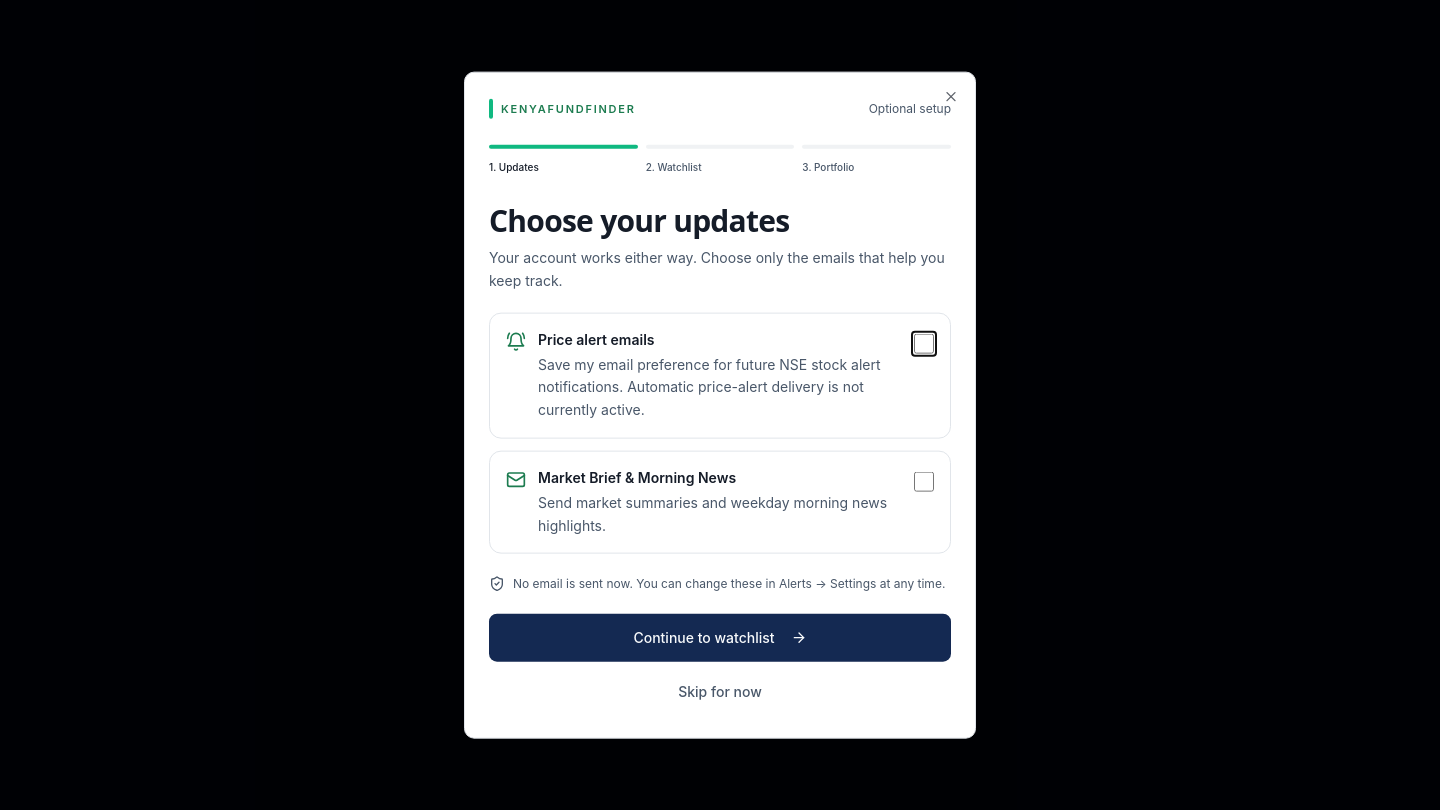
OnboardingSetup › requires an amount when a portfolio asset is selected
The width and height of the screenshot is (1440, 810).
What coordinates should you click on to do the following:
click the button "Continue to watchlist"
I would click on:
 (720, 637)
Its box is [489,613,951,661].
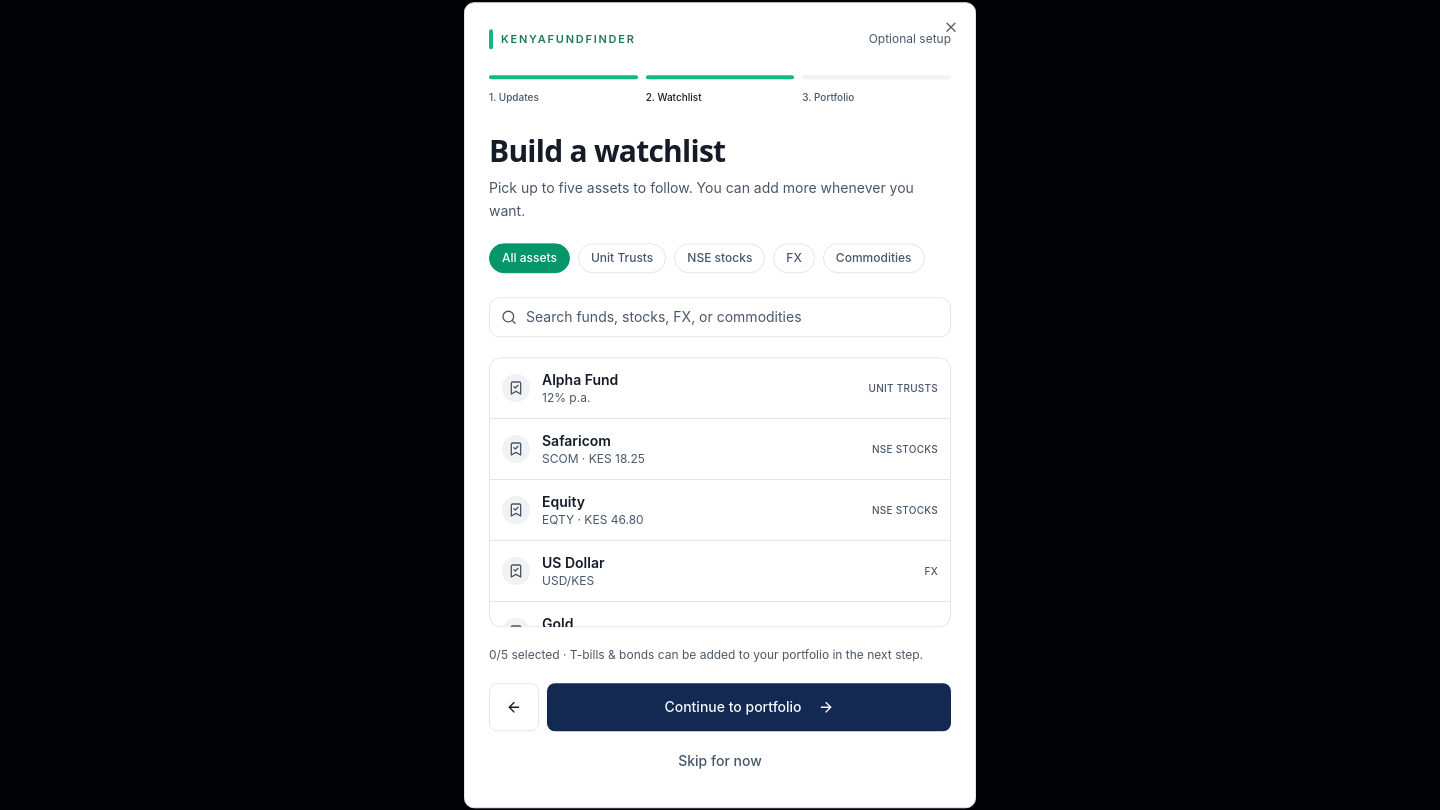
What coordinates should you click on to do the following:
click the button "Continue to portfolio"
I would click on:
 (749, 707)
Its box is [547,683,951,731].
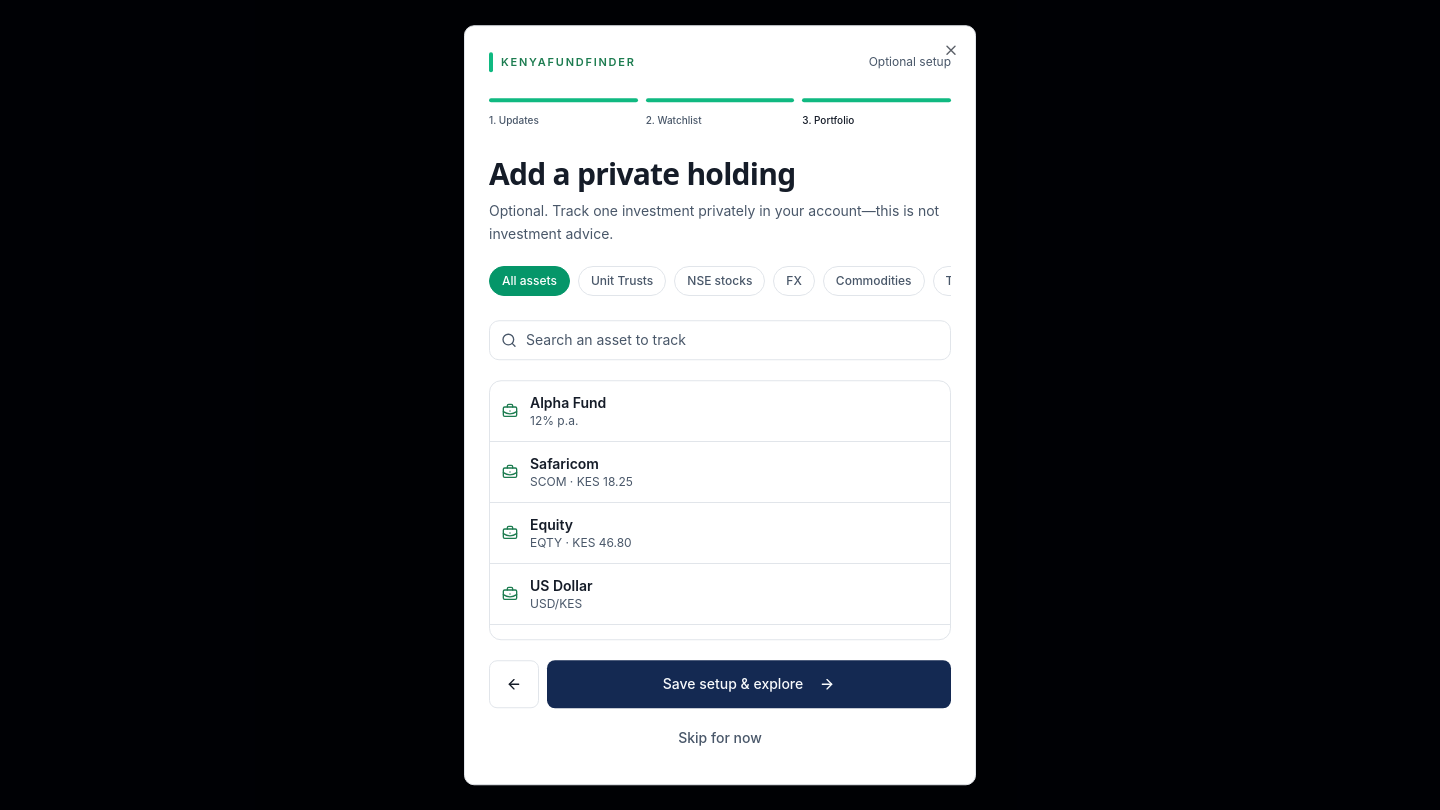
What coordinates should you click on to do the following:
click the button "Safaricom SCOM · KES 18.25"
I would click on:
 (564, 463)
Its box is [490,441,950,502].
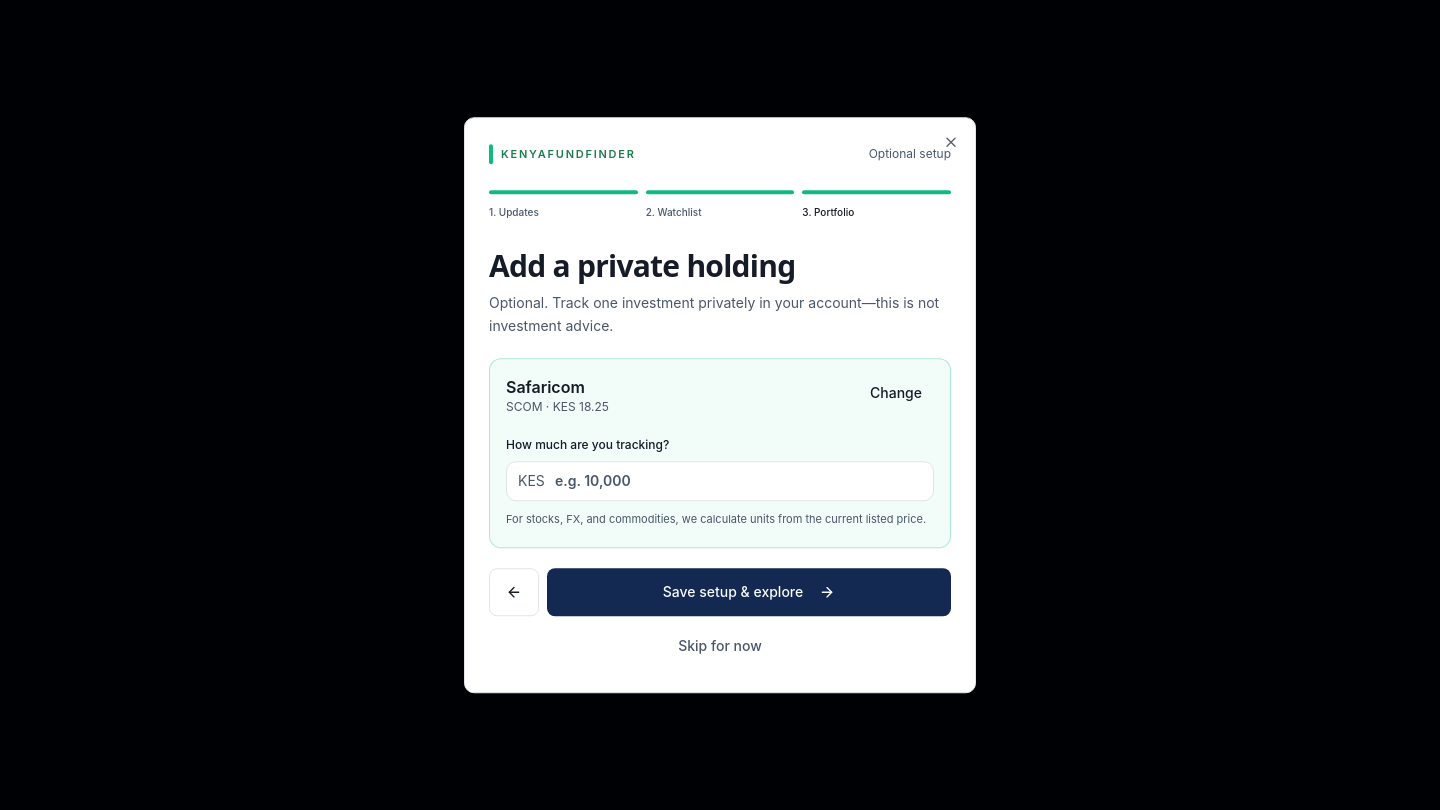
What coordinates should you click on to do the following:
click the button "Save setup & explore"
I would click on:
 (749, 592)
Its box is [547,568,951,616].
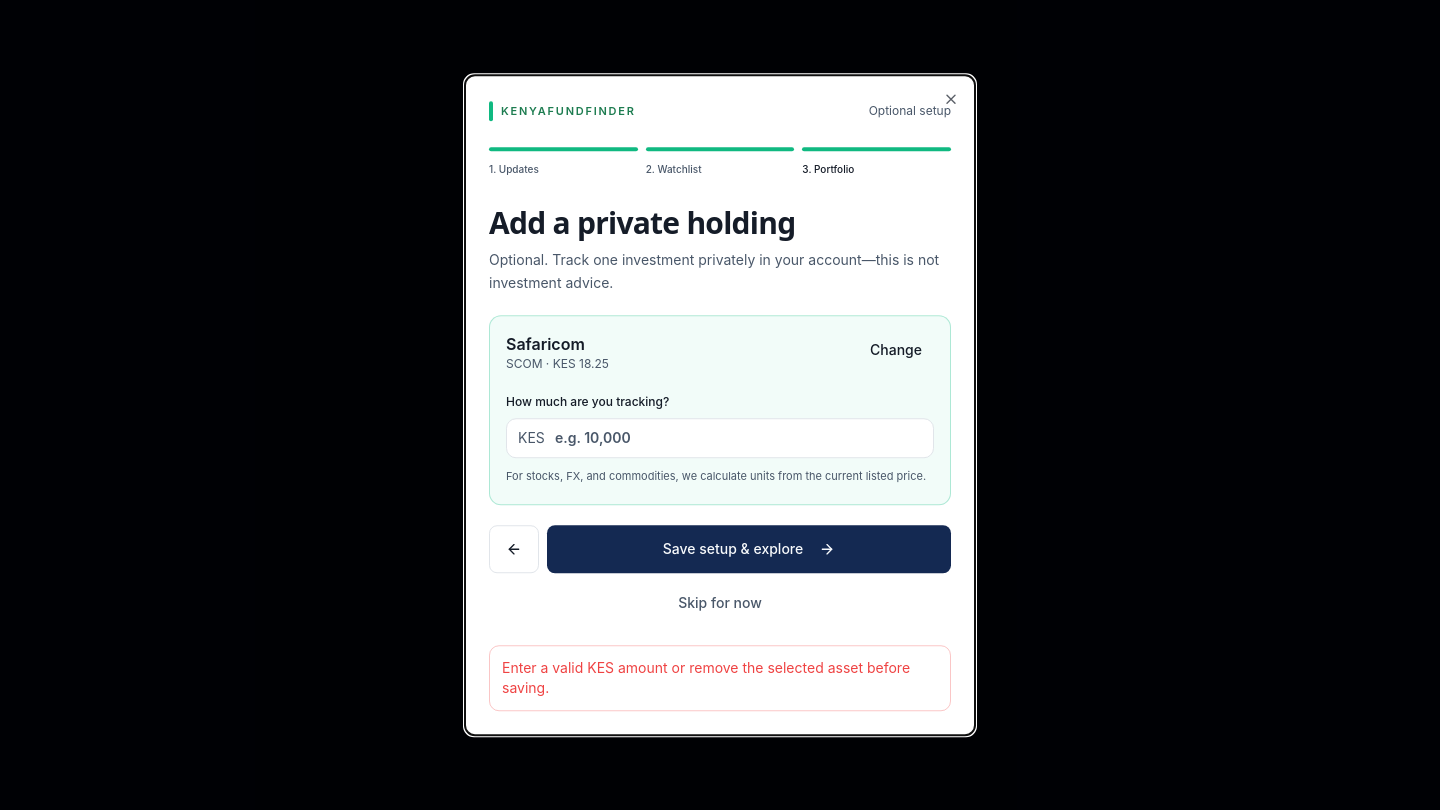
Now the message shows "Enter a valid KES amount", box [502,659,910,696]
